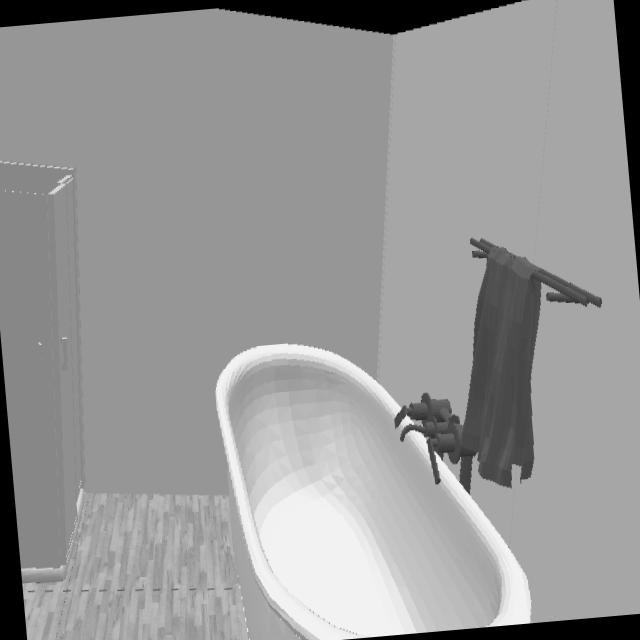bathtube: (214, 344, 531, 640)
shower: (0, 161, 85, 586)
